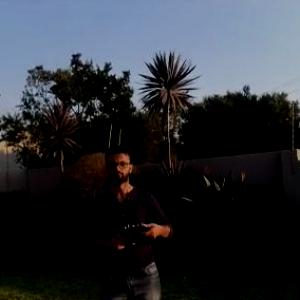follow: (80, 136, 176, 299)
